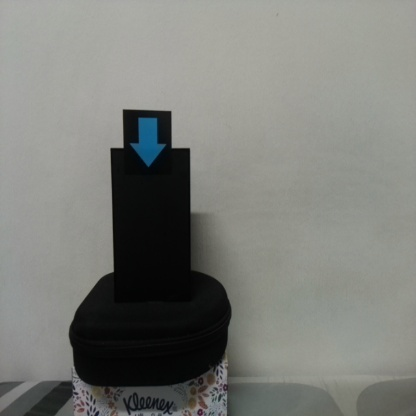id_2: (123, 109, 172, 181)
